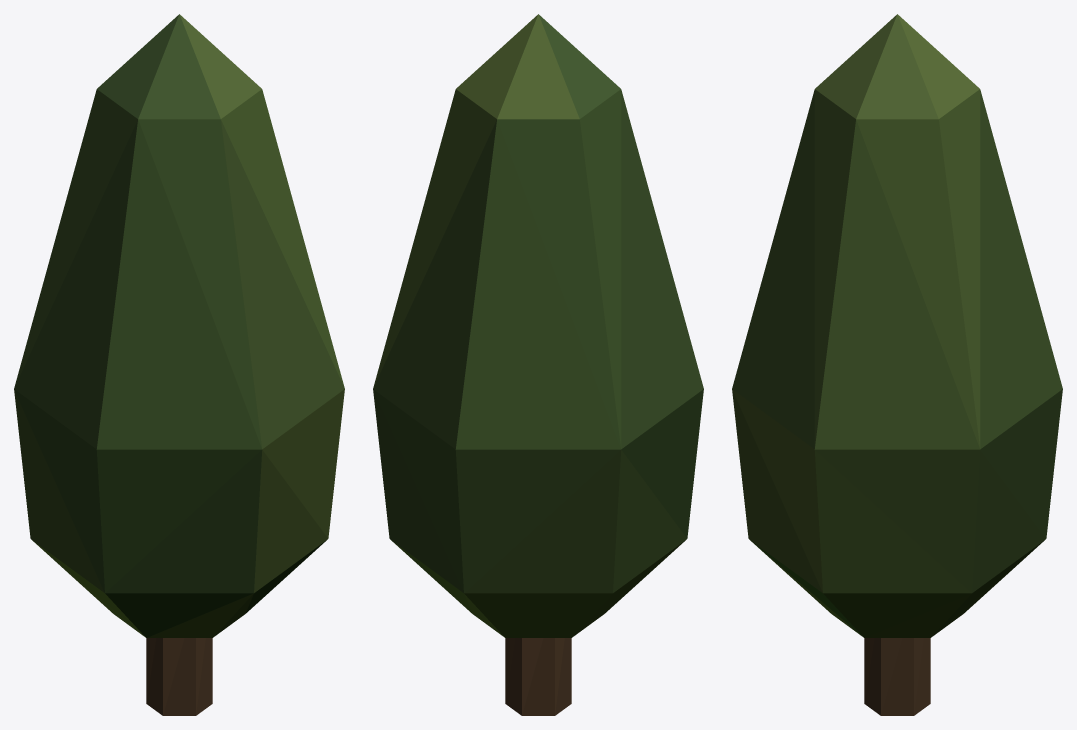
The model's file is Prop_Tree_Cedar_2.glb.
The picture shows the model from 3 angles, left to right: view 1: azimuth 30°, elevation 25°; view 2: azimuth 150°, elevation 25°; view 3: azimuth 270°, elevation 25°; orthographic projection.
Parts seen in each view (by area): view 1: Prop_Tree_Cedar_2_Merged; view 2: Prop_Tree_Cedar_2_Merged; view 3: Prop_Tree_Cedar_2_Merged.
Boxes of the visible parts, left/top/right/bottom form: Prop_Tree_Cedar_2_Merged: left=14, top=14, right=344, bottom=715; Prop_Tree_Cedar_2_Merged: left=373, top=14, right=703, bottom=715; Prop_Tree_Cedar_2_Merged: left=732, top=14, right=1062, bottom=715.
Size of the model in its own units: 0.866 by 2.3 by 1.
